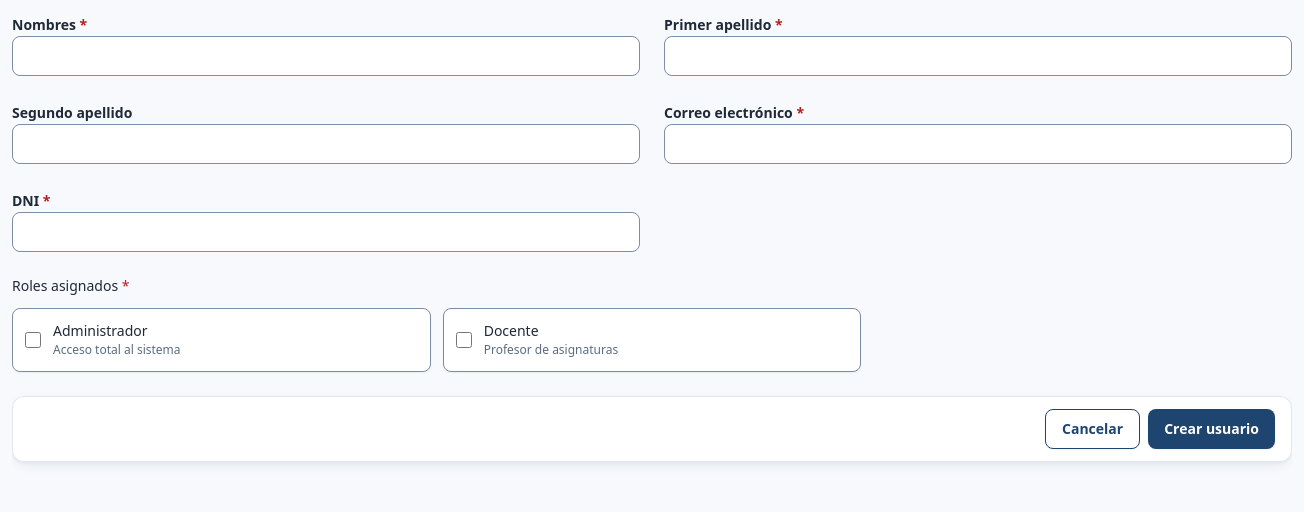
Test: UserForm component (T-003-27) › requires at least one role and displays roles from the api
Expected: the text "Administrador" is shown, left=53, top=321, right=148, bottom=340
Expected: the text "Docente" is shown, left=484, top=321, right=539, bottom=340
# Rellenamos datos válidos pero ningún rol seleccionado
Type "Carlos" into the field labelled "Nombres *" at (326, 56), box left=12, top=36, right=640, bottom=76
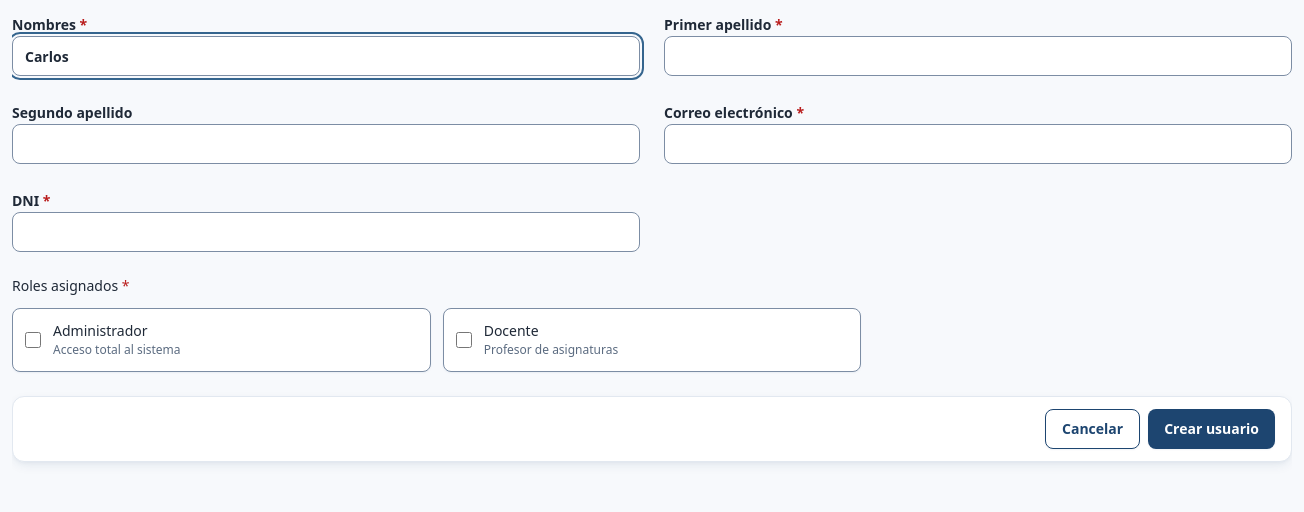
Type "Ruiz" into the field labelled "Primer apellido *" at (978, 56), box left=664, top=36, right=1292, bottom=76
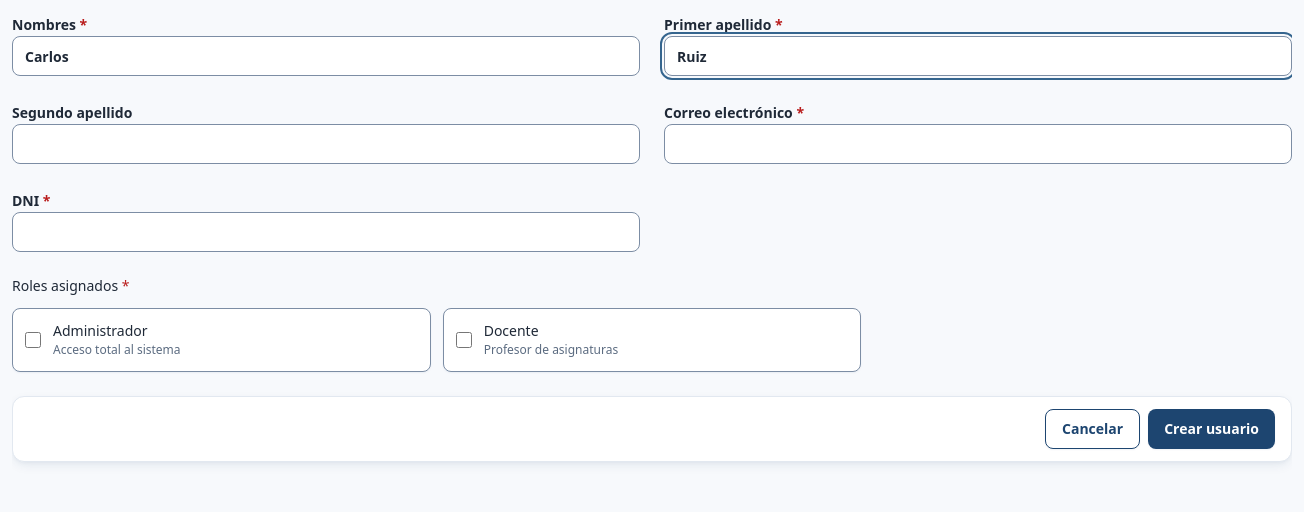
Type "carlos@unterm.edu.pe" into the field labelled "Correo electrónico *" at (978, 144), box left=664, top=124, right=1292, bottom=164
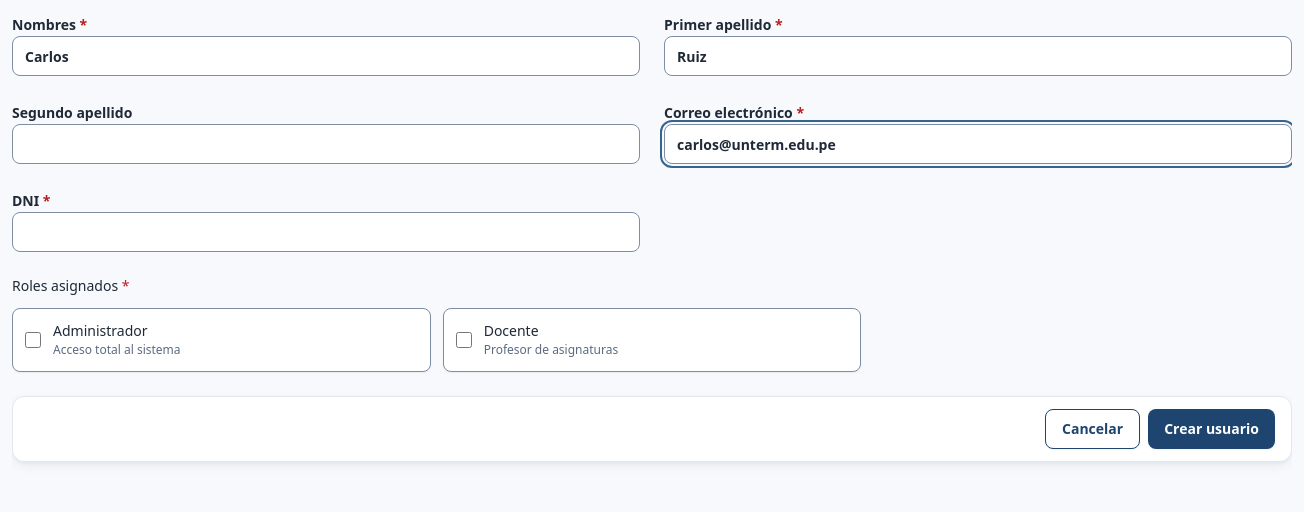
Type "71234567" into the field labelled "DNI *" at (326, 232), box left=12, top=212, right=640, bottom=252
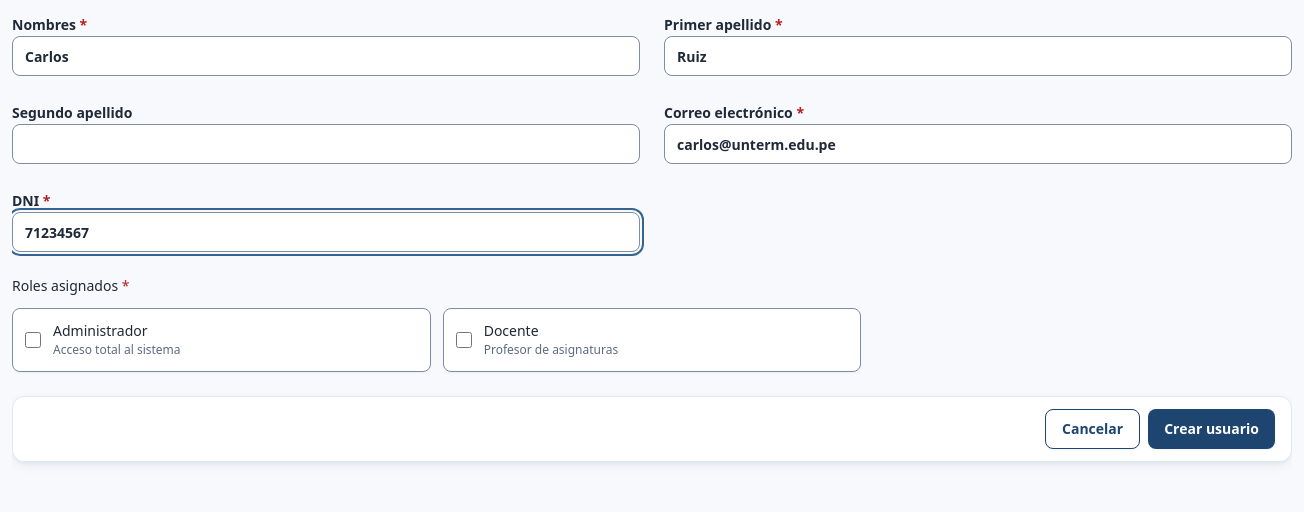
Click the button "Crear usuario" at (1212, 429), box left=1148, top=409, right=1275, bottom=449
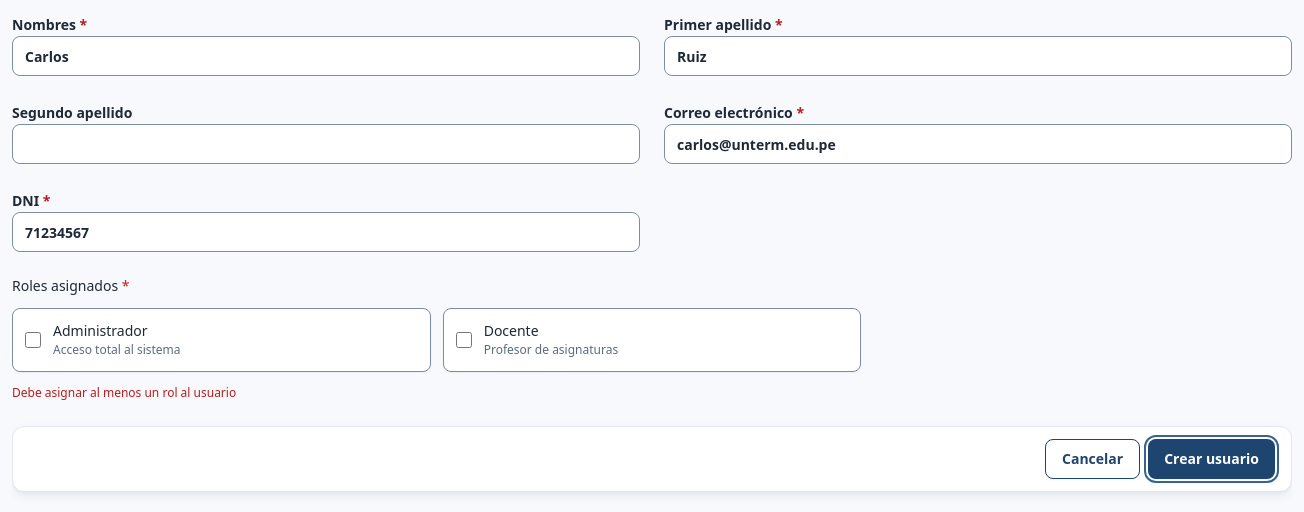
Result: the text "Debe asignar al menos un rol al usuario" is shown at left=12, top=384, right=236, bottom=401
